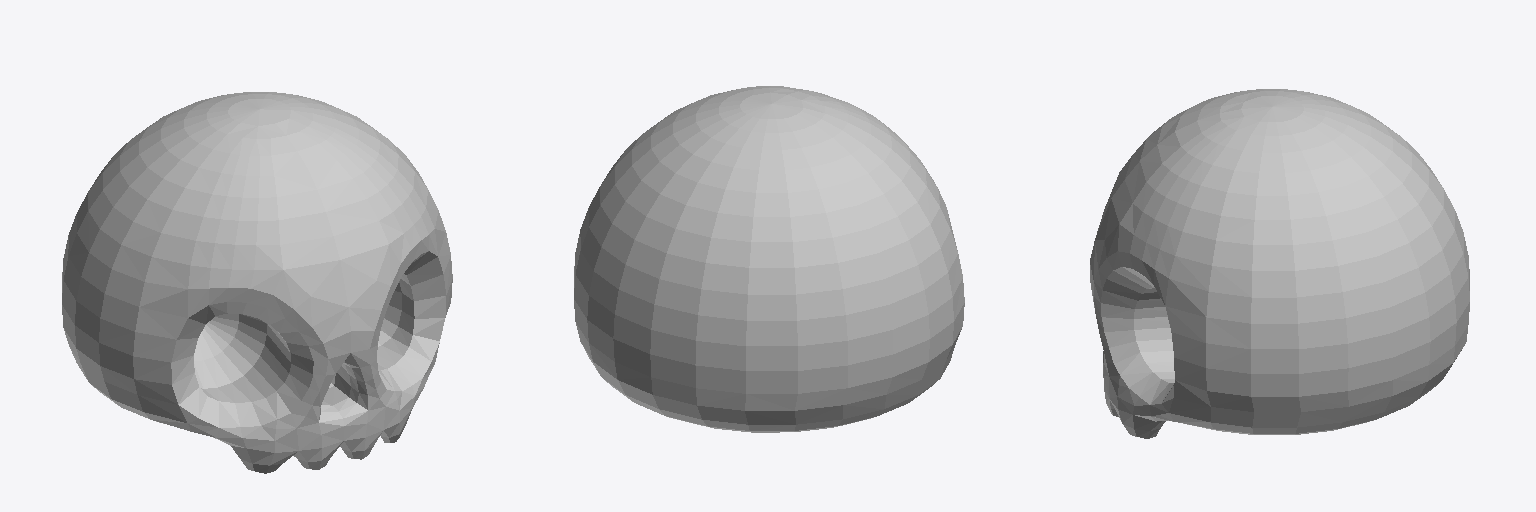
Rendered from character_skeleton_mage_head.obj.
3 renders of one model, left to right at view 1: azimuth 30°, elevation 25°; view 2: azimuth 150°, elevation 25°; view 3: azimuth 270°, elevation 25°, orthographic.
Visible parts, largest first — view 1: character_skeleton_mage_head_Cube.7687; view 2: character_skeleton_mage_head_Cube.7687; view 3: character_skeleton_mage_head_Cube.7687.
Boxes of the visible parts, box(x1,y1,x2,y2) form: character_skeleton_mage_head_Cube.7687: box(62, 92, 452, 473); character_skeleton_mage_head_Cube.7687: box(574, 86, 964, 432); character_skeleton_mage_head_Cube.7687: box(1090, 89, 1469, 438).
Bounding box in the file's own units: 0.9546 × 0.7938 × 0.9162.